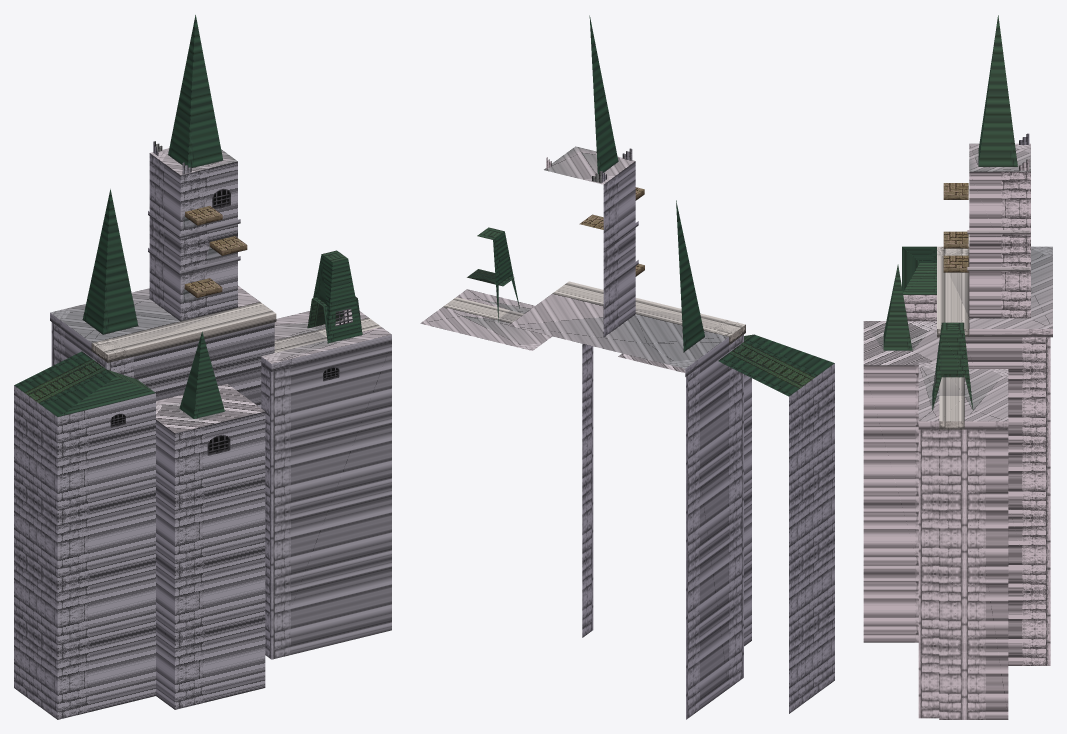
File: HyruleCastle.glb
3 views of the same model, side by side, from view 1: azimuth 30°, elevation 25°; view 2: azimuth 150°, elevation 25°; view 3: azimuth 270°, elevation 25° (orthographic). The views are drawn at different scales.
Parts seen in each view (by area): view 1: HyruleCastle_3, HyruleCastle_4, HyruleCastle_2, HyruleCastle_6, HyruleCastle_0, HyruleCastle_5, HyruleCastle_12, HyruleCastle_11, HyruleCastle_14, HyruleCastle_18, HyruleCastle_Alpha_9, HyruleCastle_19; view 2: HyruleCastle_4, HyruleCastle_6, HyruleCastle_0, HyruleCastle_11, HyruleCastle_3, HyruleCastle_2, HyruleCastle_12, HyruleCastle_14, HyruleCastle_5; view 3: HyruleCastle_4, HyruleCastle_3, HyruleCastle_11, HyruleCastle_0, HyruleCastle_2, HyruleCastle_12, HyruleCastle_5, HyruleCastle_18, HyruleCastle_6, HyruleCastle_7, HyruleCastle_19.
Boxes of the visible parts, x1,y1,x2,y2 form: HyruleCastle_3: (57,153,265,719); HyruleCastle_4: (51,322,391,659); HyruleCastle_2: (14,15,362,418); HyruleCastle_6: (14,385,57,719); HyruleCastle_0: (50,148,391,433); HyruleCastle_5: (50,211,391,371); HyruleCastle_12: (92,302,380,354); HyruleCastle_11: (92,352,271,659); HyruleCastle_14: (24,359,106,403); HyruleCastle_18: (185,206,246,293); HyruleCastle_Alpha_9: (207,188,230,455); HyruleCastle_19: (184,212,247,297); HyruleCastle_4: (686,346,728,719); HyruleCastle_6: (789,363,834,713); HyruleCastle_0: (420,146,728,372); HyruleCastle_11: (582,335,743,688); HyruleCastle_3: (603,161,751,646); HyruleCastle_2: (493,15,834,396); HyruleCastle_12: (443,281,745,336); HyruleCastle_14: (729,342,814,388); HyruleCastle_5: (605,221,728,376); HyruleCastle_4: (964,337,1050,719); HyruleCastle_3: (863,171,1030,642); HyruleCastle_11: (918,337,964,719); HyruleCastle_0: (863,143,1052,421); HyruleCastle_2: (883,15,1017,409); HyruleCastle_12: (937,246,969,421); HyruleCastle_5: (918,230,1052,429); HyruleCastle_18: (943,183,968,267); HyruleCastle_6: (903,295,936,321); HyruleCastle_7: (932,331,973,409); HyruleCastle_19: (943,195,968,272).
Bounding box in the file's own units: 1132 × 1981 × 541.
22 materials, 22 textured.
